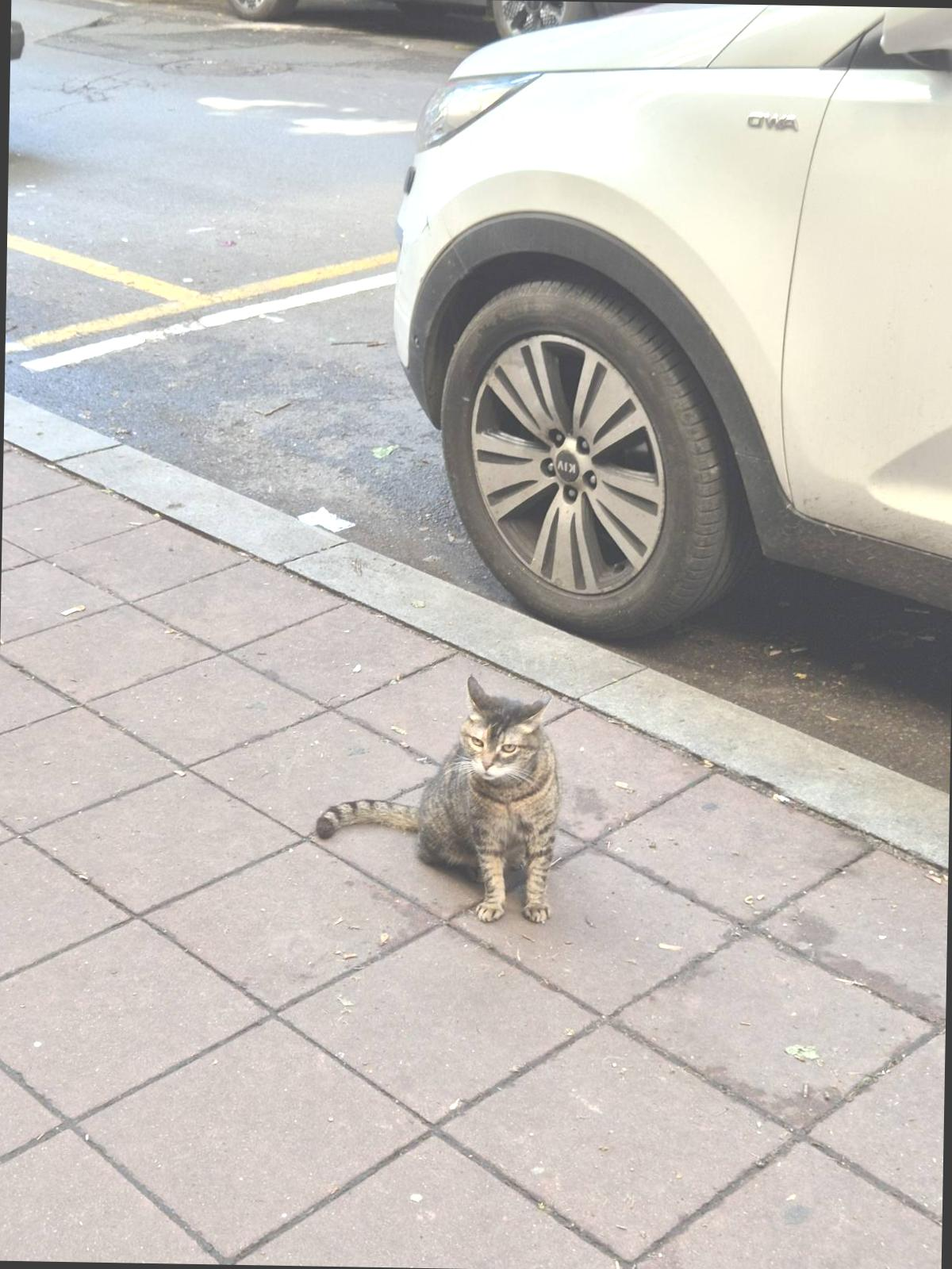macka: (312, 672, 560, 926)
